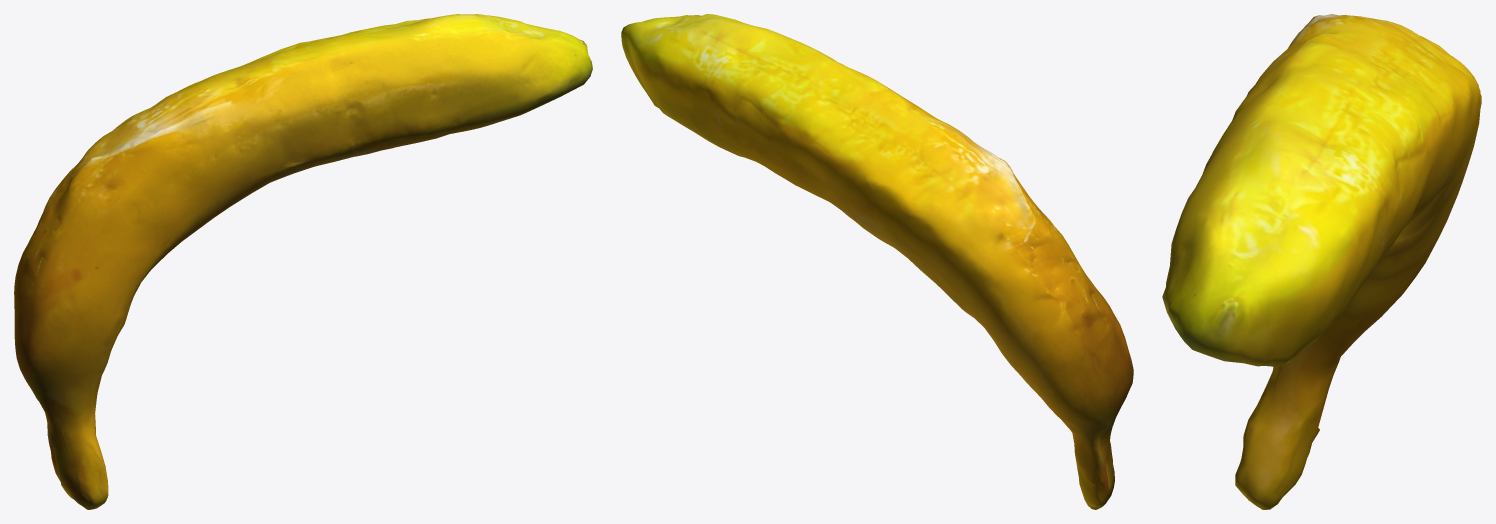
File: banana-origin.obj
3 views of the same model, side by side, from view 1: azimuth 30°, elevation 25°; view 2: azimuth 150°, elevation 25°; view 3: azimuth 270°, elevation 25° (orthographic). The views are drawn at different scales.
Parts seen in each view (by area): view 1: ObjectCapture; view 2: ObjectCapture; view 3: ObjectCapture.
Boxes of the visible parts, x1,y1,x2,y2 form: ObjectCapture: [14, 14, 592, 509]; ObjectCapture: [621, 14, 1133, 509]; ObjectCapture: [1162, 14, 1481, 509].
Size of the model in its own units: 0.1704 by 0.1223 by 0.0545.
